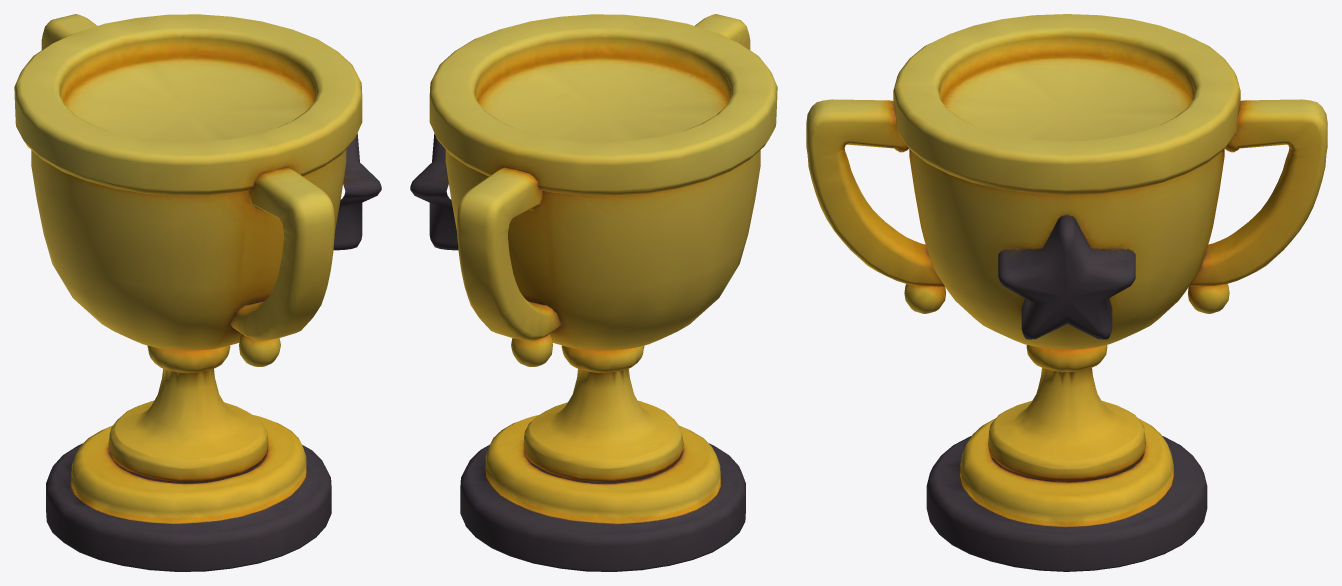
File: golden-trophy.glb
3 views of the same model, side by side, from view 1: azimuth 30°, elevation 25°; view 2: azimuth 150°, elevation 25°; view 3: azimuth 270°, elevation 25° (orthographic).
Parts seen in each view (by area): view 1: tripo_node_42a306fa-a176-424f-8430-49fac533452b; view 2: tripo_node_42a306fa-a176-424f-8430-49fac533452b; view 3: tripo_node_42a306fa-a176-424f-8430-49fac533452b.
Boxes of the visible parts, x1,y1,x2,y2 form: tripo_node_42a306fa-a176-424f-8430-49fac533452b: [14, 14, 381, 571]; tripo_node_42a306fa-a176-424f-8430-49fac533452b: [410, 14, 777, 571]; tripo_node_42a306fa-a176-424f-8430-49fac533452b: [806, 14, 1327, 571].
Bounding box in the file's own units: 0.7051 × 0.9044 × 0.998.
1 material, 1 textured.
